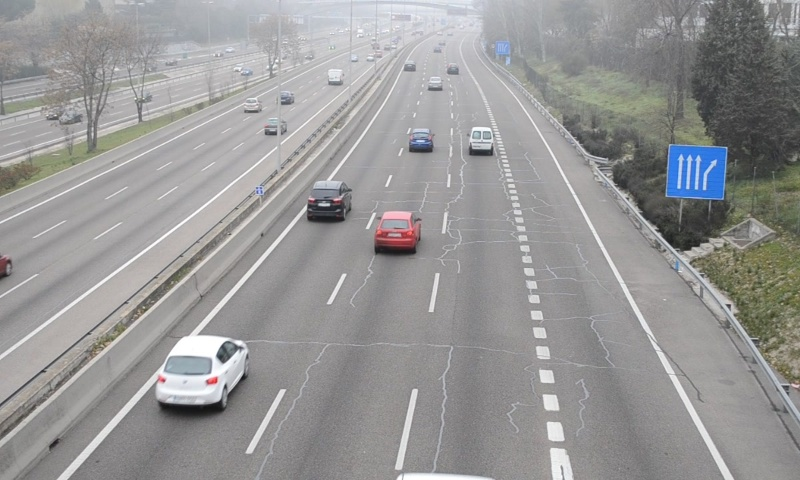car: (156, 336, 248, 407), (375, 211, 419, 249), (308, 181, 350, 219), (408, 128, 433, 152), (428, 76, 444, 91)
van: (468, 126, 494, 153)
